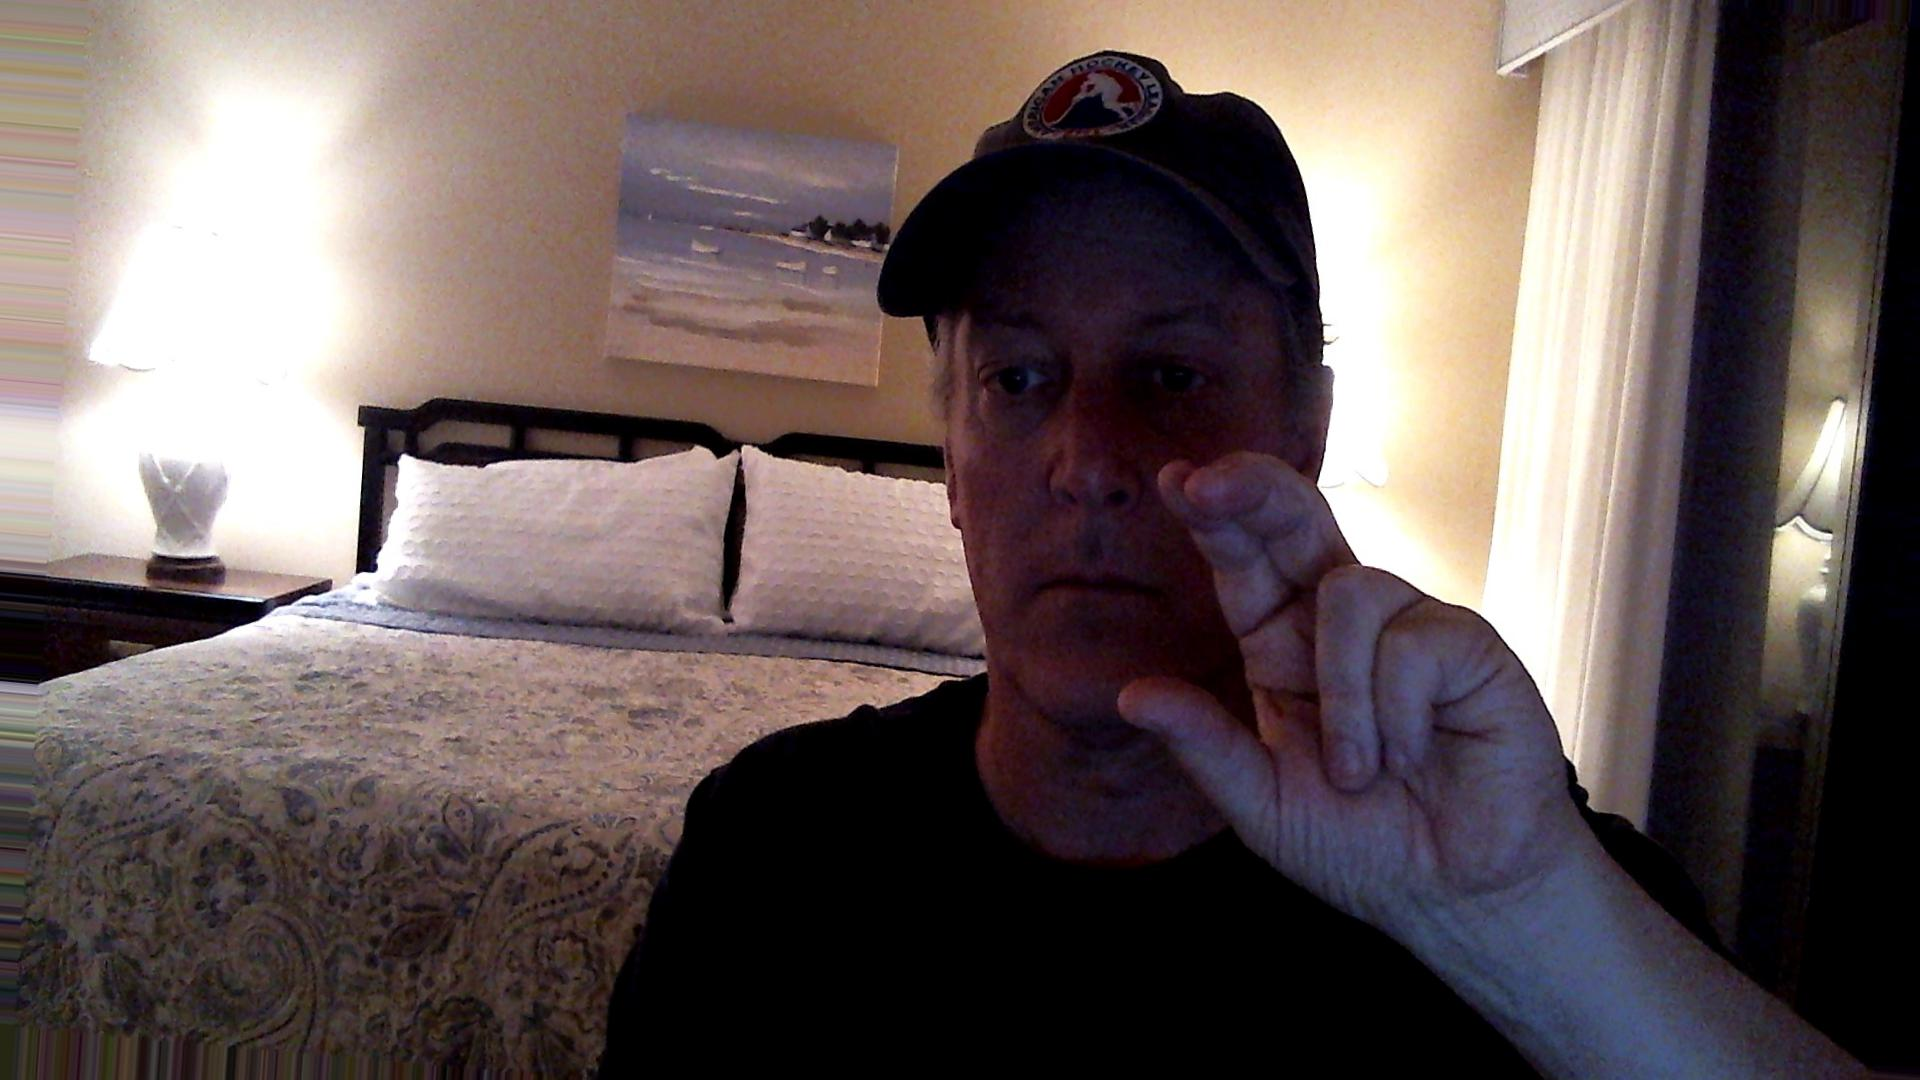No: (1100, 442, 1655, 920)
